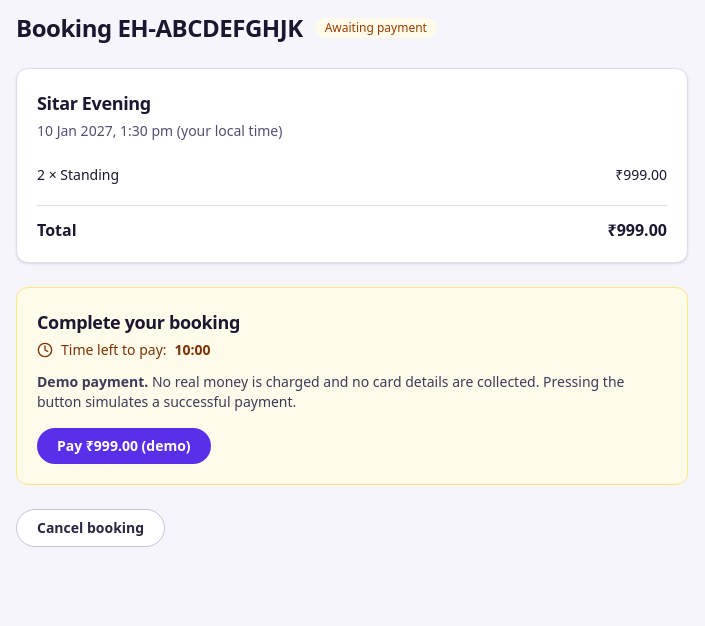
BookingPage › explains why a payment failed
The width and height of the screenshot is (705, 626).
Click the button "Pay ₹999.00 (demo)": (124, 446) [37, 428, 211, 464]
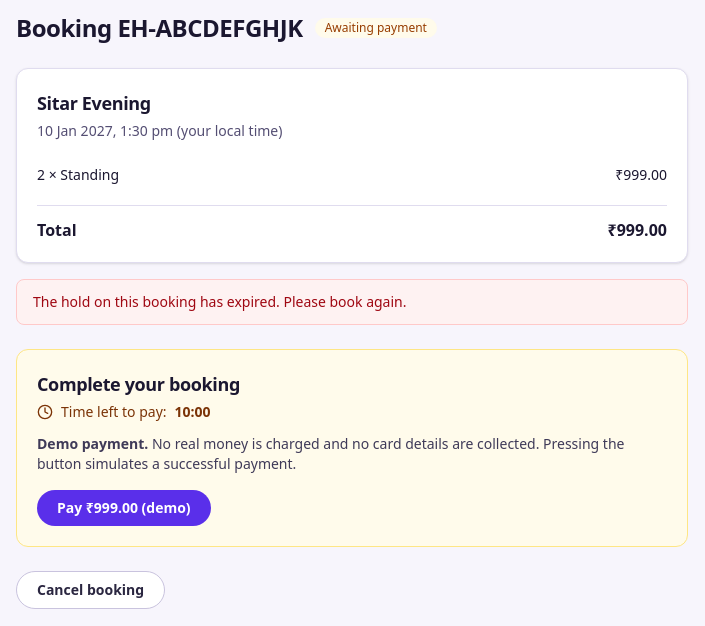
Now the message shows "The hold on this booking has expired", box [33, 292, 406, 311]
